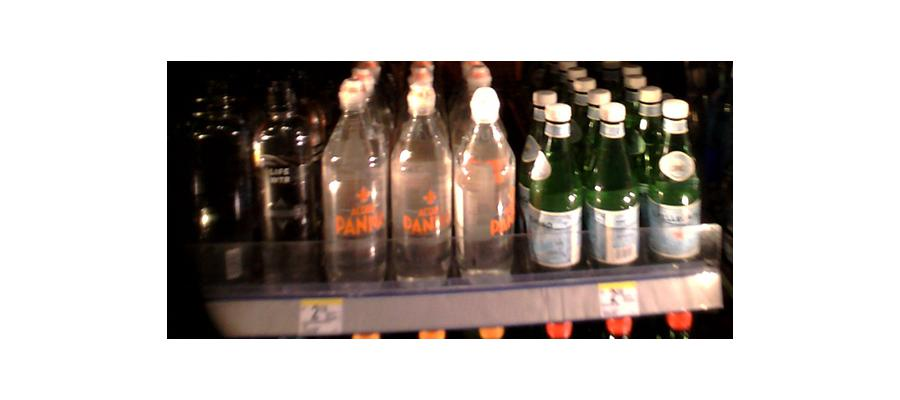bottle: (320, 76, 385, 291), (253, 80, 320, 288), (181, 86, 249, 288), (390, 83, 452, 285), (453, 91, 515, 281), (522, 100, 583, 278), (646, 97, 705, 266), (587, 101, 640, 274)
